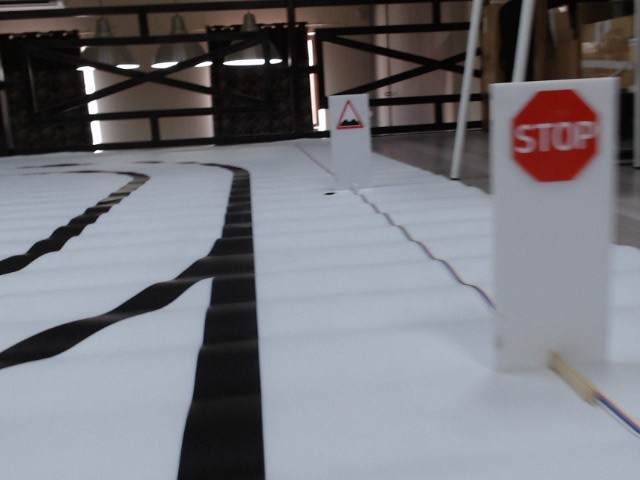Nerov: (333, 99, 366, 133)
Stop: (510, 92, 600, 181)
